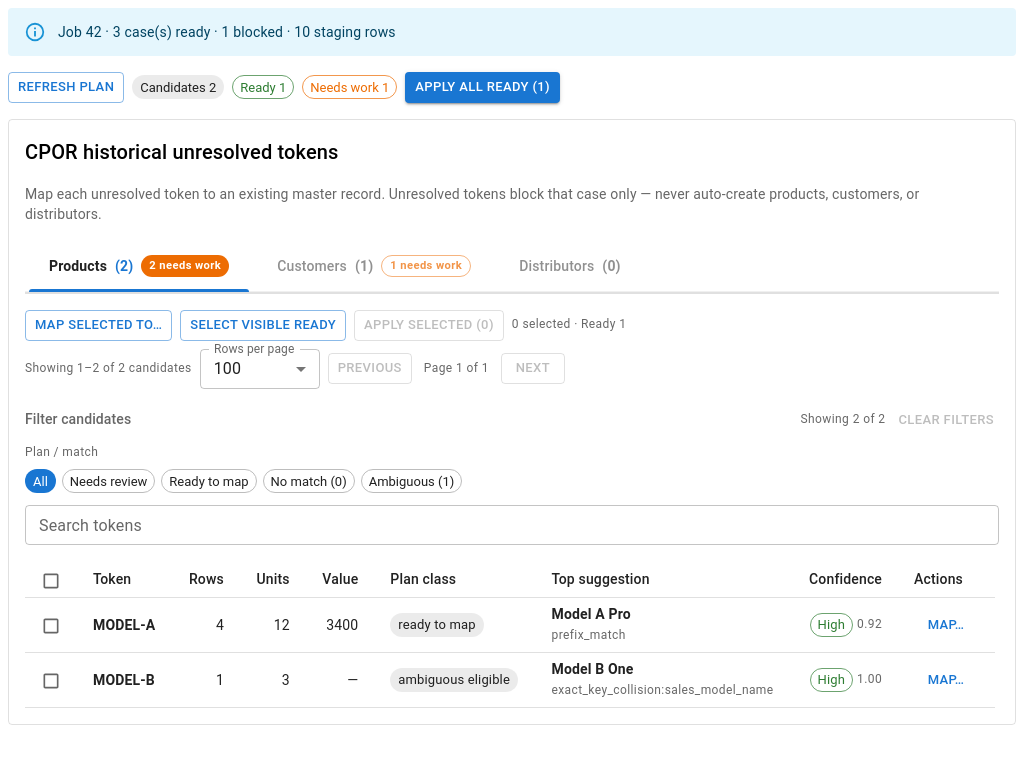
Test case: CporHistoricalImportJobResolutionSection › opens suggestion-first drawer (not autocomplete-only)
Expected: the text "Model A Pro" is shown, [552,606,631,622]
Click the button "Map…" in the row of "MODEL-A".
click(946, 625)  # box [914,610,978,641]
(page scrolled)
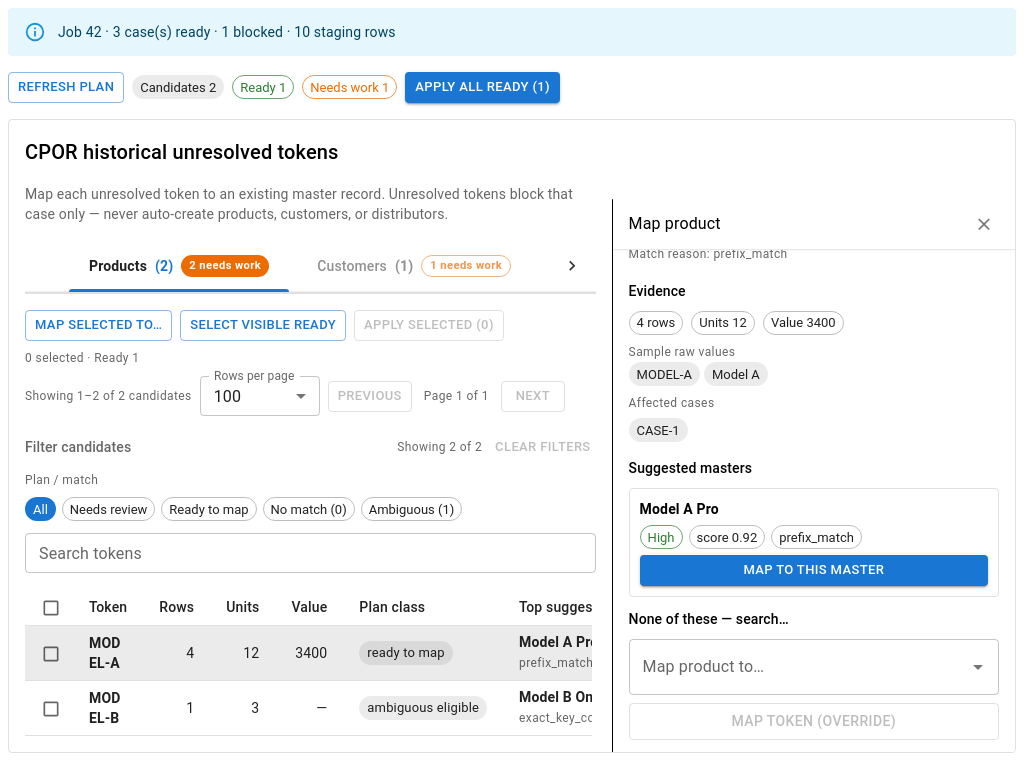
Result: the element with test id "cpor-historical-drawer-intelligence" is shown at [629,250,999,740]
Result: the element with test id "cpor-historical-drawer-evidence" is shown at [629,283,844,443]
Result: the element with test id "cpor-historical-suggestion" is shown at [629,459,999,740]
